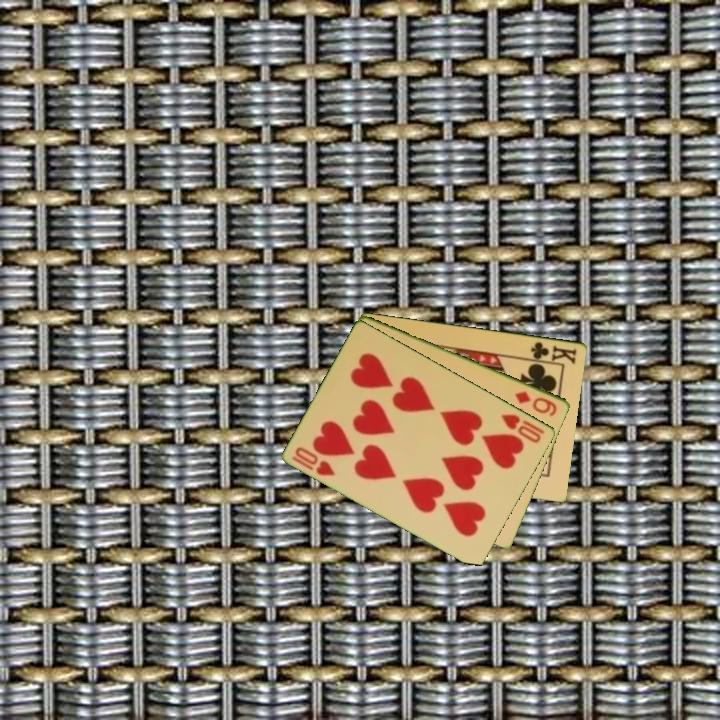10h: (288, 443, 339, 479), (498, 410, 548, 446)
6d: (512, 387, 560, 419)
Kc: (523, 338, 580, 367)
